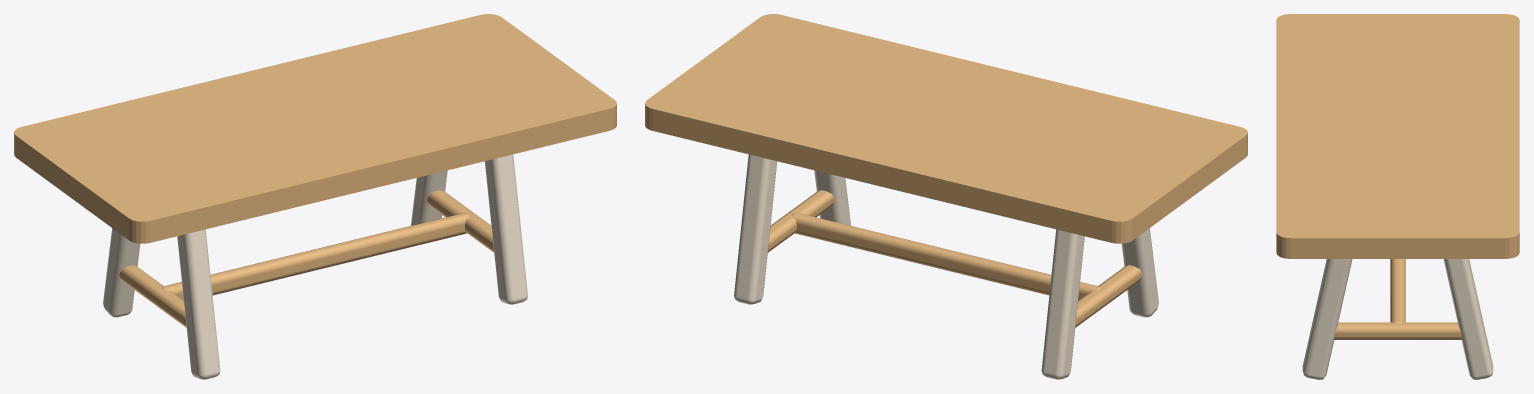
Rendered from kit_creative_table_v1.glb.
3 renders of one model, left to right at view 1: azimuth 30°, elevation 25°; view 2: azimuth 150°, elevation 25°; view 3: azimuth 270°, elevation 25°, orthographic. The views are drawn at different scales.
Parts seen in each view (by area): view 1: body; view 2: body; view 3: body.
Part boxes in pixels (x1,y1,x2,y2): body: [14, 14, 616, 379]; body: [645, 14, 1247, 379]; body: [1276, 14, 1519, 379].
Size of the model in its own units: 2.4 by 0.9 by 1.1.
